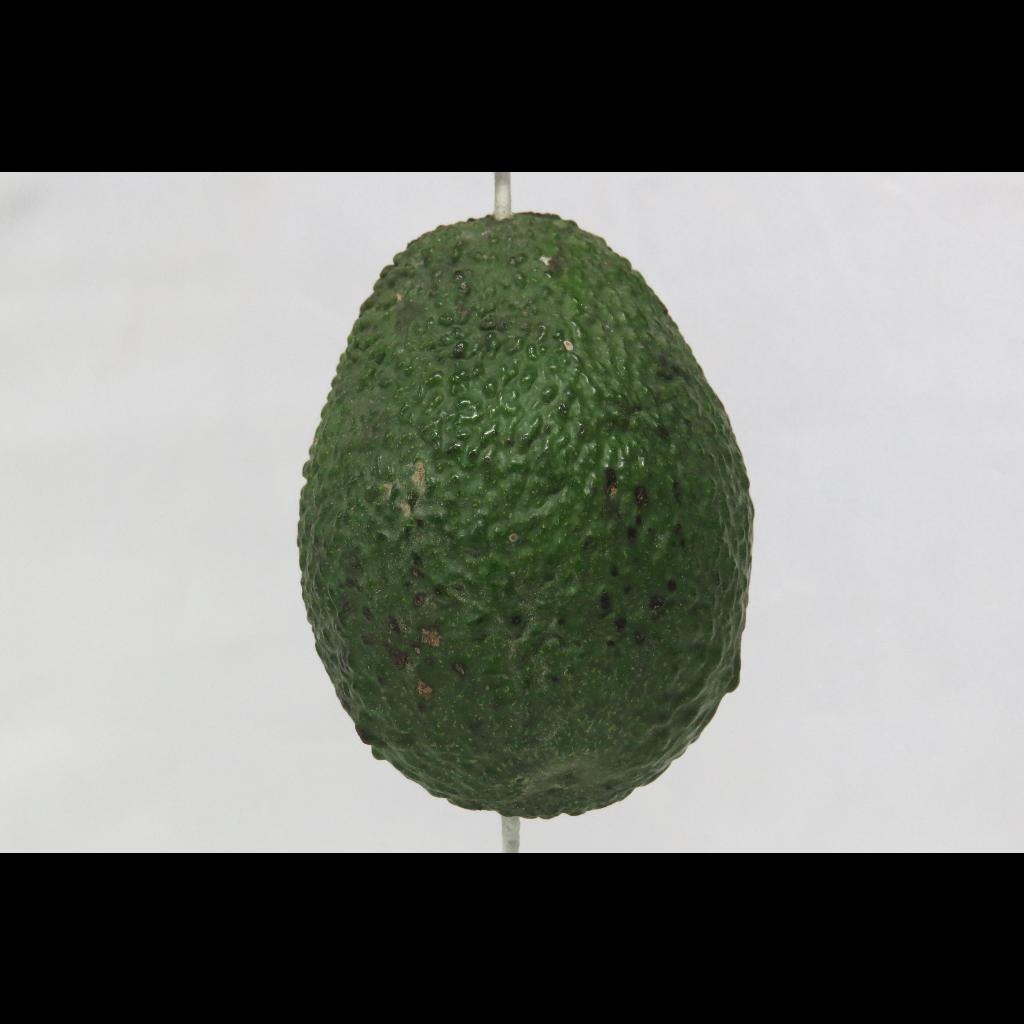fruto_sano: (203, 190, 821, 831)
